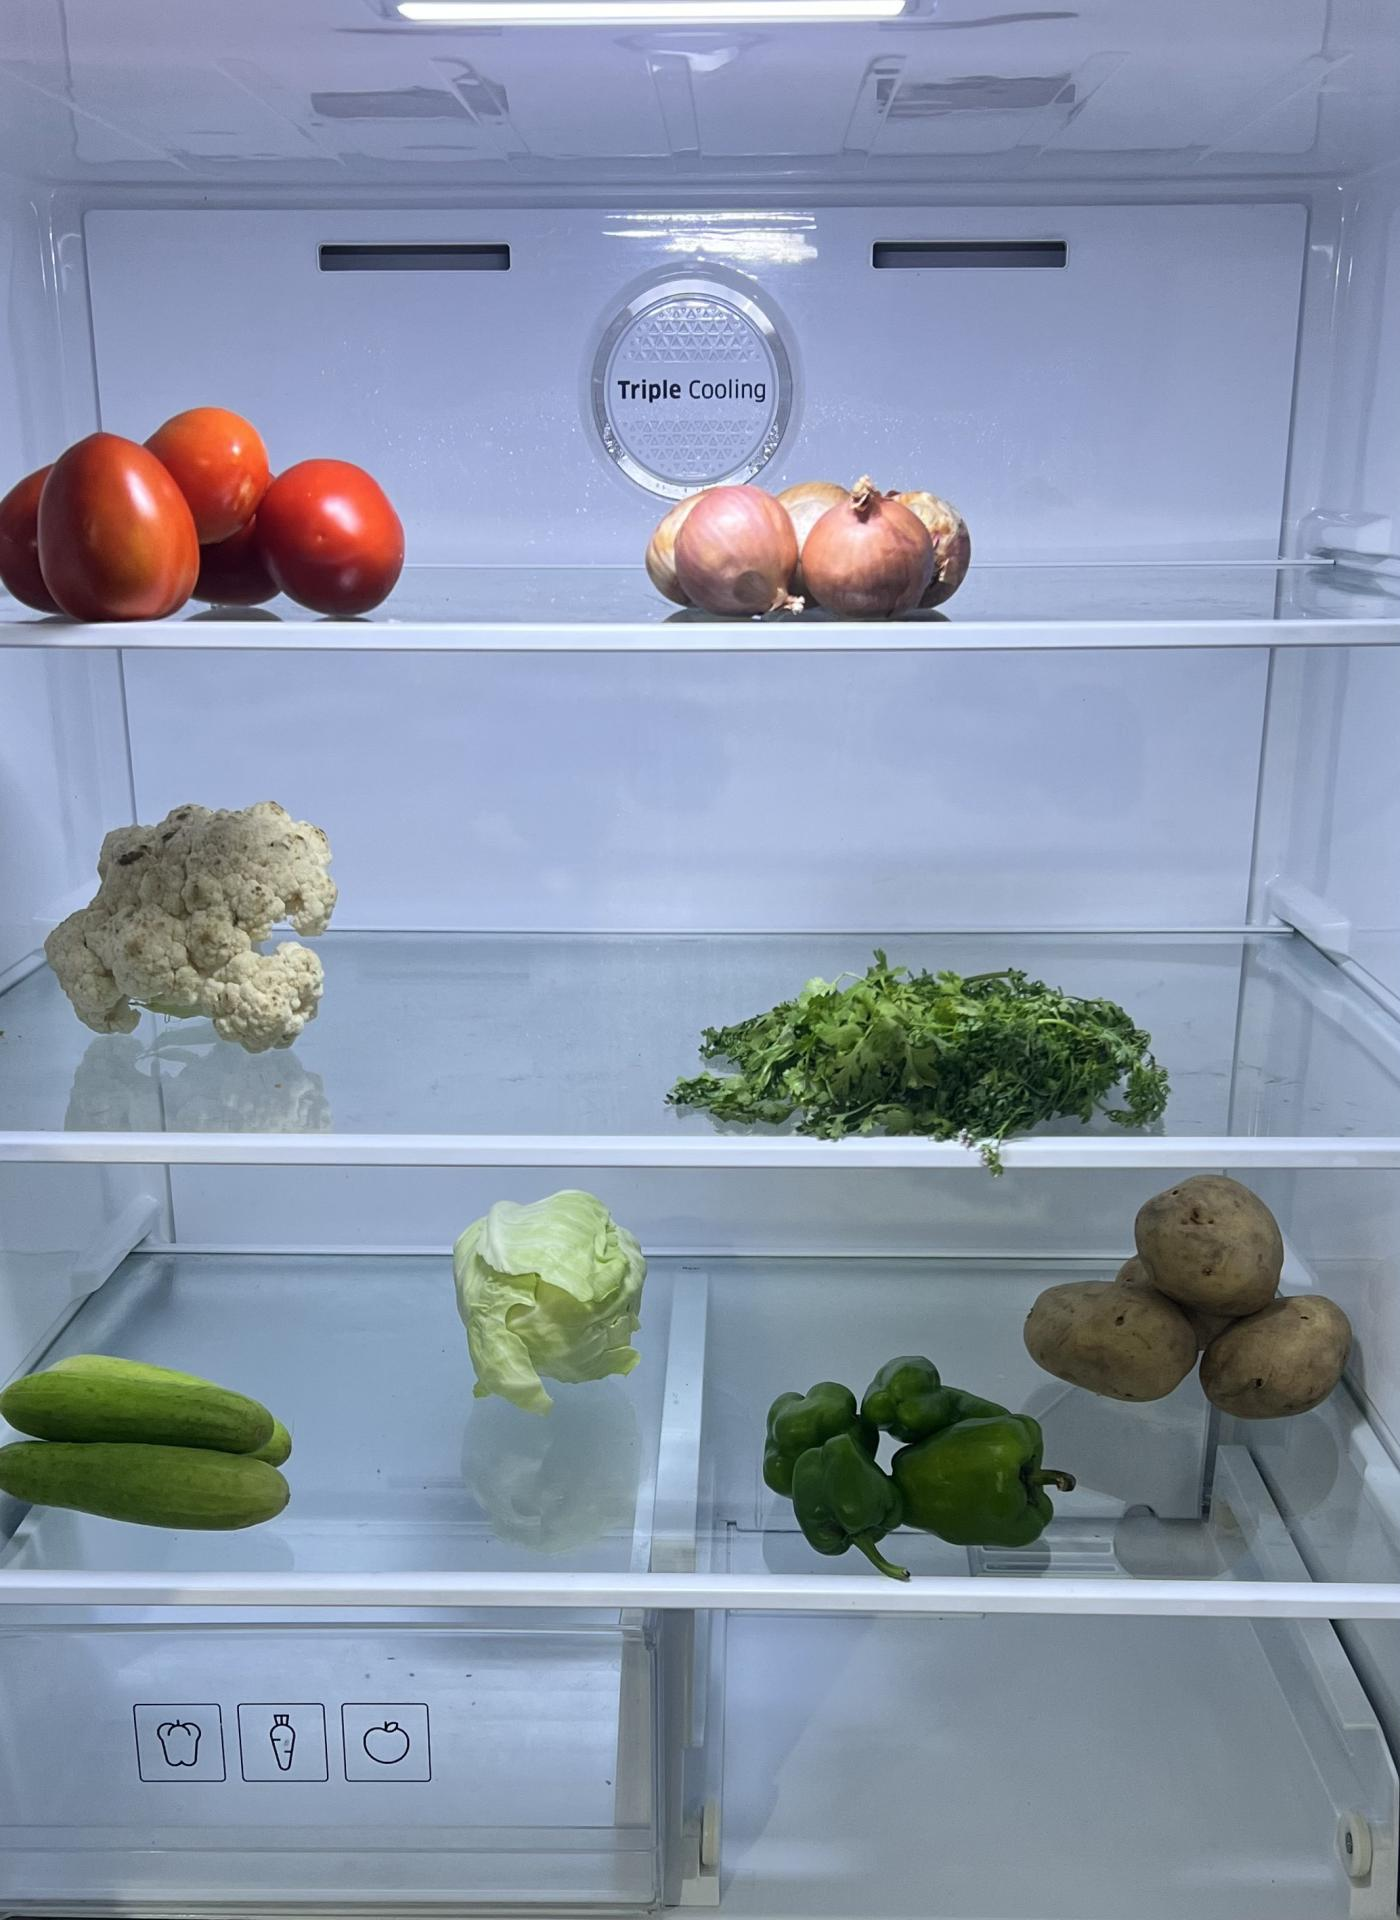cabbage: (458, 1191, 653, 1401)
capsicum: (763, 1361, 1069, 1568)
cauliflower: (43, 799, 332, 1060)
coriander: (684, 959, 1160, 1146)
cucumber: (0, 1346, 286, 1525)
onion: (647, 479, 978, 628)
potato: (1027, 1169, 1357, 1418)
tomato: (0, 401, 414, 620)
